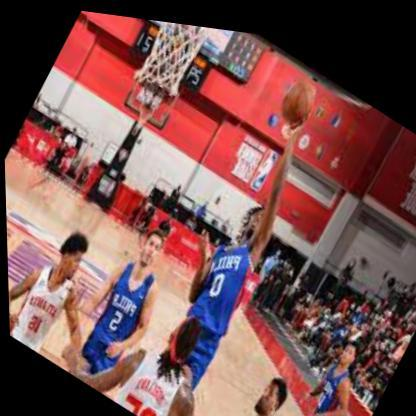basketball: (271, 63, 321, 125)
